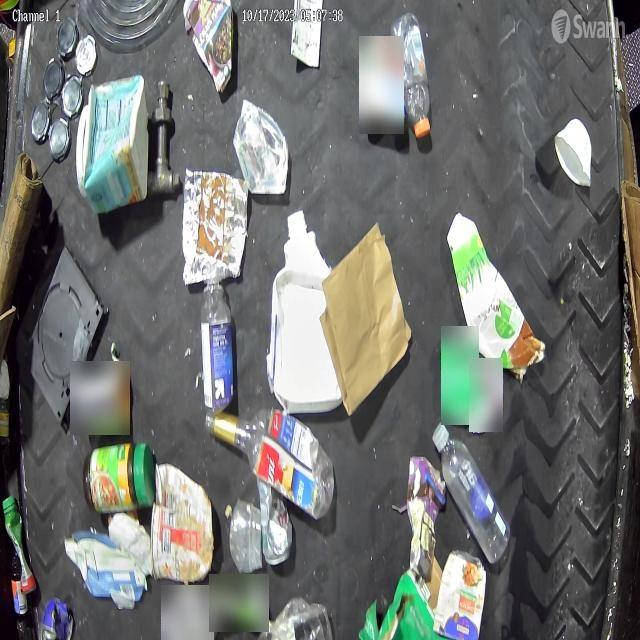plastic_bottle: (212, 407, 338, 518), (437, 422, 510, 565), (390, 9, 432, 142), (201, 280, 238, 412), (228, 499, 264, 576)
